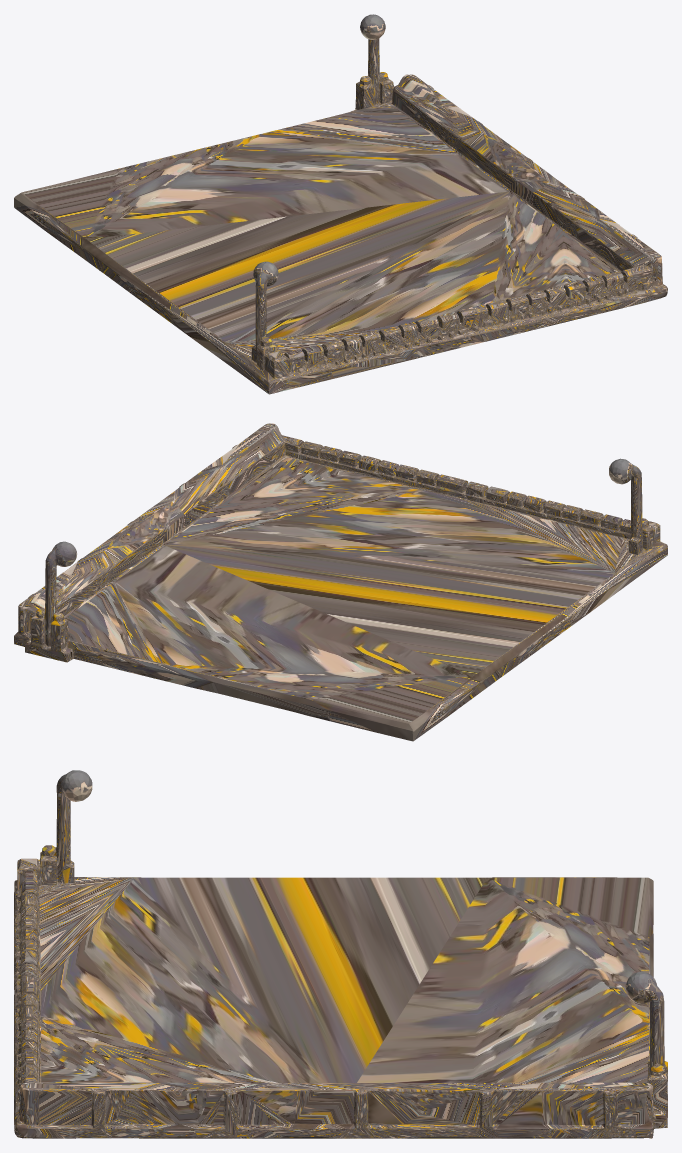
Rendered from truck_depot_top_entrance.glb.
The picture shows the model from 3 angles, top to bottom: view 1: azimuth 30°, elevation 25°; view 2: azimuth 150°, elevation 25°; view 3: azimuth 270°, elevation 25°; orthographic projection. The views are drawn at different scales.
Visible parts, largest first — view 1: normalize; view 2: normalize; view 3: normalize.
Part boxes in pixels (left/top/right/bottom): normalize: left=14, top=14, right=667, bottom=394; normalize: left=14, top=423, right=667, bottom=741; normalize: left=14, top=770, right=667, bottom=1138.
Bounding box in the file's own units: 0.8879 × 0.2315 × 1.
Materials: 1 (1 with a texture image).
